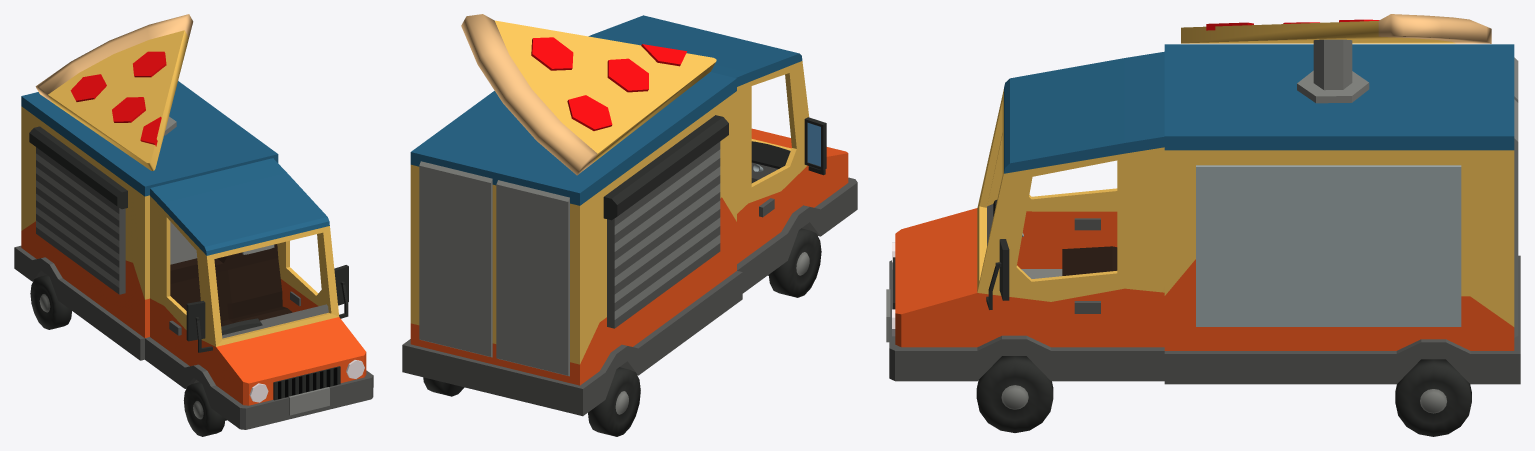
Rendered from PizzaTruck.fbx.
The picture shows the model from 3 angles, left to right: view 1: azimuth 30°, elevation 25°; view 2: azimuth 150°, elevation 25°; view 3: azimuth 270°, elevation 25°; orthographic projection. The views are drawn at different scales.
Visible parts, largest first — view 1: PizzaTruck, Wheels.003, Wheels.002; view 2: PizzaTruck, Wheels.003, Wheels.002, Wheels.004; view 3: PizzaTruck, Wheels.004, Wheels.001.
Part boxes in pixels (<box>): PizzaTruck: <box>14,14,373,429</box>; Wheels.003: <box>30,275,71,329</box>; Wheels.002: <box>183,382,225,436</box>; PizzaTruck: <box>402,14,857,416</box>; Wheels.003: <box>588,367,640,436</box>; Wheels.002: <box>769,228,821,297</box>; Wheels.004: <box>423,377,464,396</box>; PizzaTruck: <box>886,14,1520,384</box>; Wheels.004: <box>1395,359,1471,436</box>; Wheels.001: <box>976,356,1053,432</box>.
Size of the model in its own units: 371 by 638 by 895.
1 material, 1 textured.
